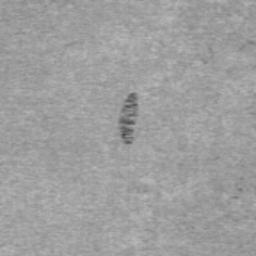Secondary rust skin: (119, 92, 139, 145)
